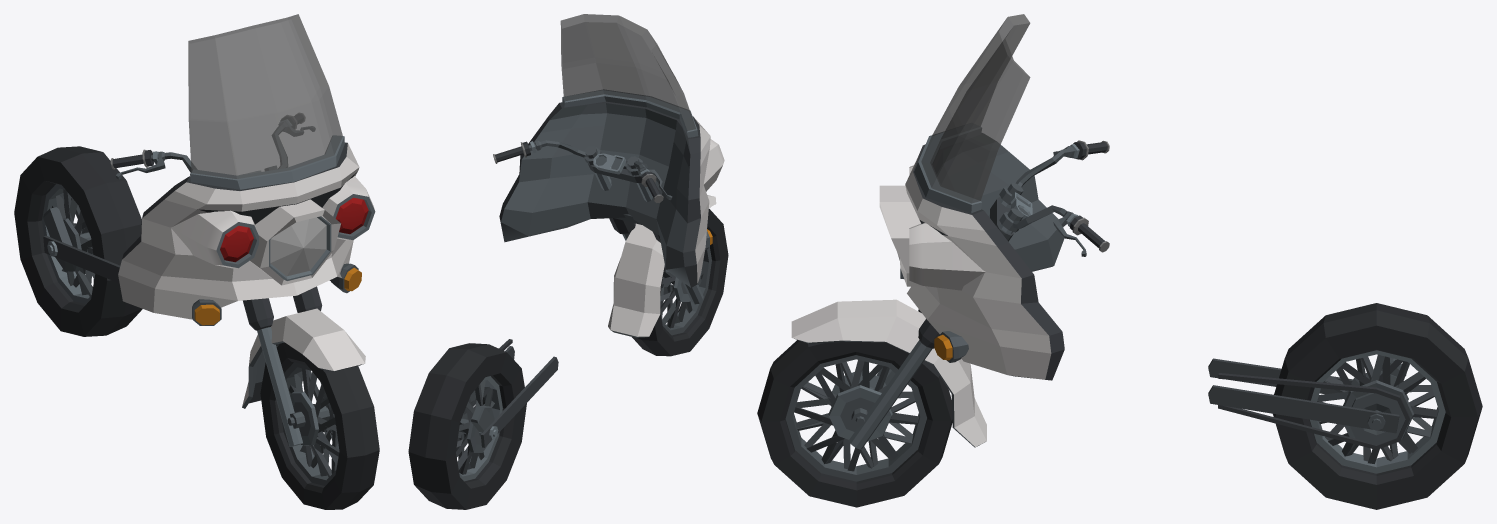
File: SM_Veh_Motorbike_02.fbx
3 renders of one model, left to right at view 1: azimuth 30°, elevation 25°; view 2: azimuth 150°, elevation 25°; view 3: azimuth 270°, elevation 25°, orthographic. The views are drawn at different scales.
Visible parts, largest first — view 1: SM_Veh_Motorbike_02_HandleBars, SM_Veh_Motorbike_02_Screen, SM_Veh_Motorbike_02_Rear_Wheel_01, SM_Veh_Motorbike_02_Front_Wheel_01, SM_Veh_Motorbike_02_Front_Shock_01, SM_Veh_Motorbike_02; view 2: SM_Veh_Motorbike_02_HandleBars, SM_Veh_Motorbike_02_Rear_Wheel_01, SM_Veh_Motorbike_02_Screen, SM_Veh_Motorbike_02_Front_Wheel_01, SM_Veh_Motorbike_02, SM_Veh_Motorbike_02_Front_Shock_01; view 3: SM_Veh_Motorbike_02_HandleBars, SM_Veh_Motorbike_02_Rear_Wheel_01, SM_Veh_Motorbike_02_Front_Wheel_01, SM_Veh_Motorbike_02_Screen, SM_Veh_Motorbike_02, SM_Veh_Motorbike_02_Front_Shock_01.
Boxes of the visible parts, x1=… form: SM_Veh_Motorbike_02_HandleBars: x1=110, y1=113, x2=375, y2=408; SM_Veh_Motorbike_02_Screen: x1=188, y1=14, x2=342, y2=178; SM_Veh_Motorbike_02_Rear_Wheel_01: x1=14, y1=146, x2=142, y2=336; SM_Veh_Motorbike_02_Front_Wheel_01: x1=260, y1=342, x2=379, y2=509; SM_Veh_Motorbike_02_Front_Shock_01: x1=257, y1=327, x2=334, y2=446; SM_Veh_Motorbike_02: x1=43, y1=207, x2=120, y2=283; SM_Veh_Motorbike_02_HandleBars: x1=493, y1=89, x2=724, y2=337; SM_Veh_Motorbike_02_Rear_Wheel_01: x1=408, y1=343, x2=526, y2=509; SM_Veh_Motorbike_02_Screen: x1=560, y1=14, x2=695, y2=130; SM_Veh_Motorbike_02_Front_Wheel_01: x1=632, y1=209, x2=728, y2=356; SM_Veh_Motorbike_02: x1=458, y1=339, x2=558, y2=452; SM_Veh_Motorbike_02_Front_Shock_01: x1=622, y1=233, x2=703, y2=304; SM_Veh_Motorbike_02_HandleBars: x1=791, y1=127, x2=1109, y2=447; SM_Veh_Motorbike_02_Rear_Wheel_01: x1=1273, y1=303, x2=1482, y2=509; SM_Veh_Motorbike_02_Front_Wheel_01: x1=757, y1=340, x2=952, y2=507; SM_Veh_Motorbike_02_Screen: x1=921, y1=14, x2=1030, y2=203; SM_Veh_Motorbike_02: x1=1208, y1=357, x2=1413, y2=449; SM_Veh_Motorbike_02_Front_Shock_01: x1=828, y1=340, x2=932, y2=449.
Size of the model in its own units: 87.99 by 161 by 224.
